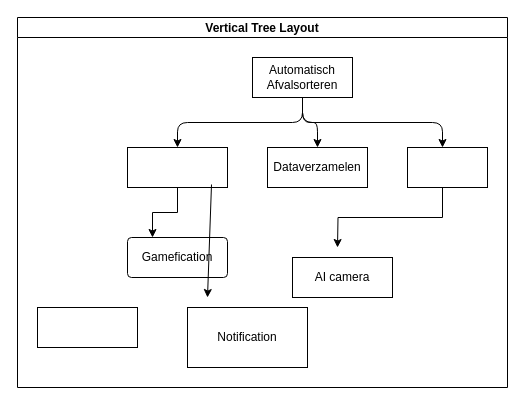
Some shapes in this 525 by 405 pixel diagram are drawn without their labels. The centre of each missing label's shape, as x and y in pixels:
"Dashbord" belongs at (x=177, y=167).
"Entity" belongs at (x=87, y=327).
"Sorteren" belongs at (x=447, y=167).
